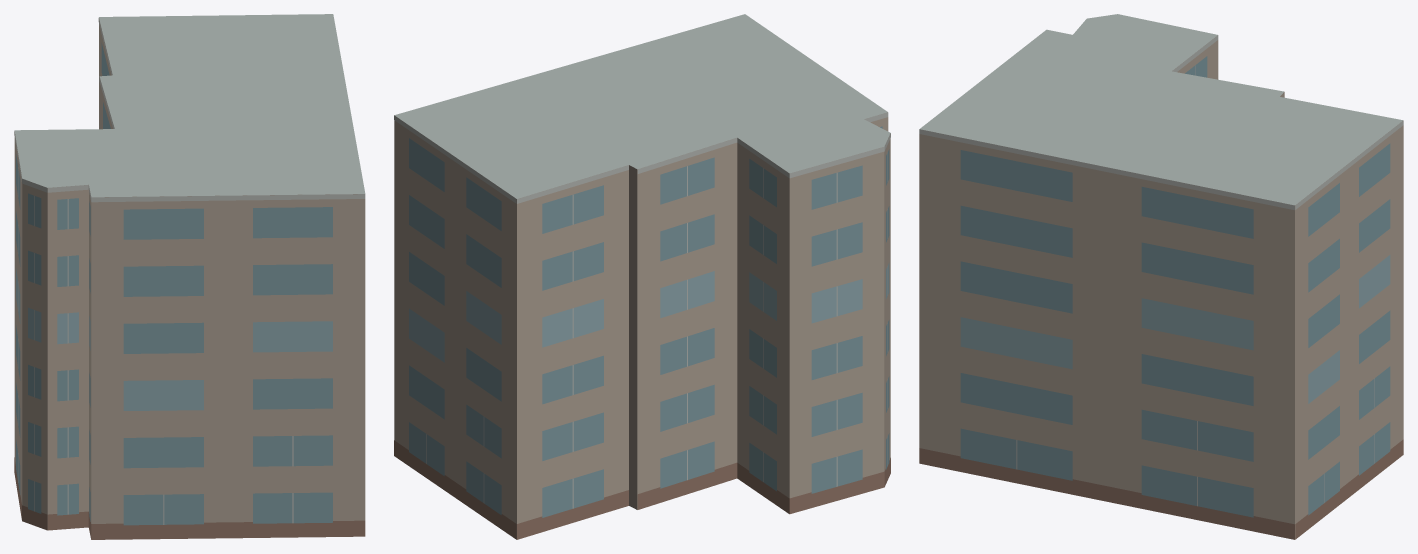
Rendered from survey-upis-32851195.glb.
3 views of the same model, side by side, from view 1: azimuth 30°, elevation 25°; view 2: azimuth 150°, elevation 25°; view 3: azimuth 270°, elevation 25° (orthographic). The views are drawn at different scales.
Visible parts, largest first — view 1: survey-upis-32851195.tmp; view 2: survey-upis-32851195.tmp; view 3: survey-upis-32851195.tmp.
Boxes of the visible parts, x1,y1,x2,y2 form: survey-upis-32851195.tmp: (14, 14, 365, 539); survey-upis-32851195.tmp: (394, 14, 890, 539); survey-upis-32851195.tmp: (919, 14, 1403, 539).
Bounding box in the file's own units: 20.76 × 16.9 × 22.18.
